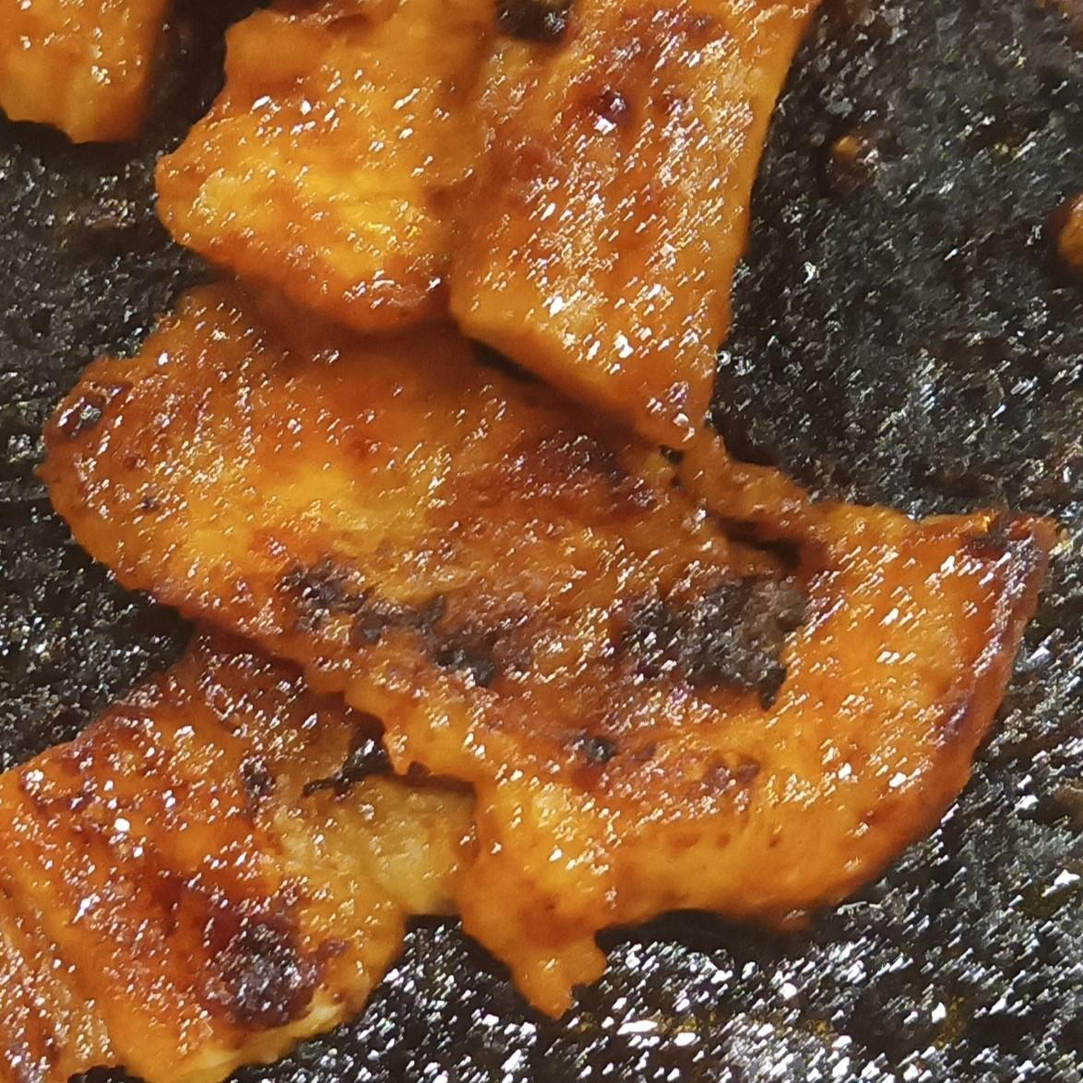Overcooked: (0, 0, 1053, 1082)
